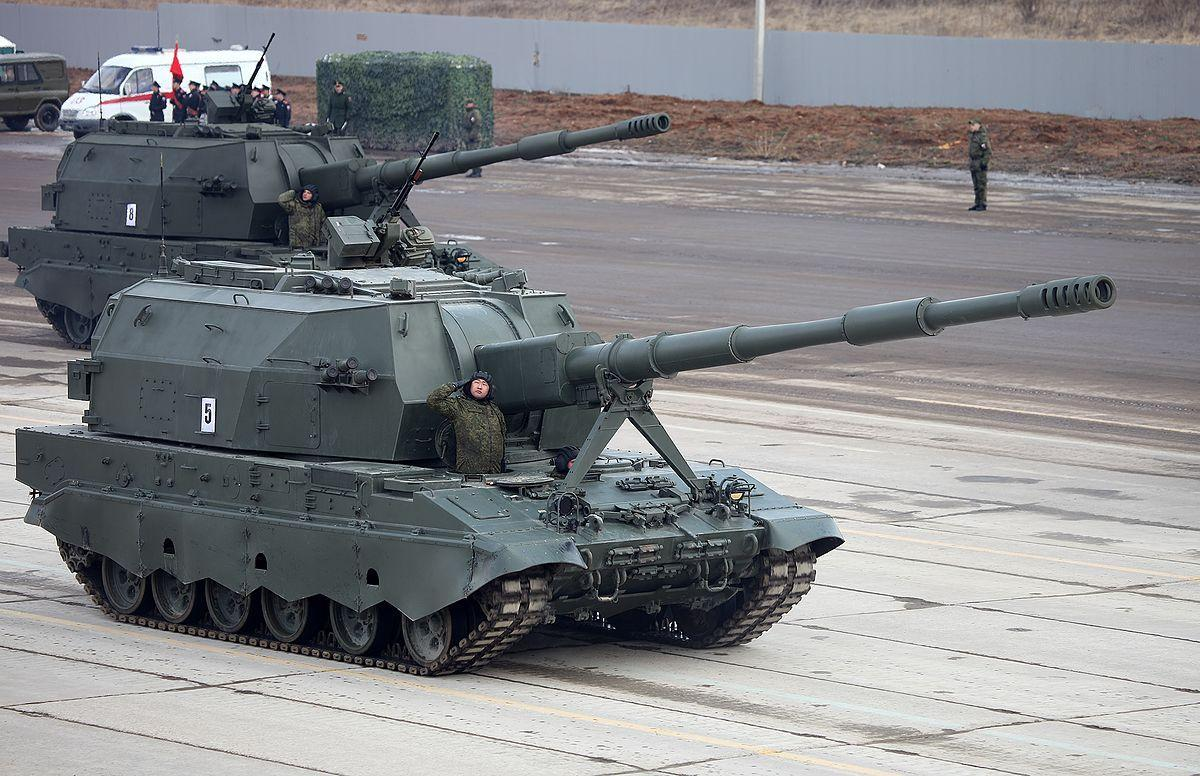person: (964, 120, 1002, 221), (458, 97, 490, 186), (320, 80, 357, 135), (144, 84, 169, 122), (274, 88, 296, 128)
sau: (63, 262, 1168, 672), (15, 103, 693, 316)
